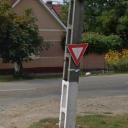preferencia: (65, 43, 89, 67)
